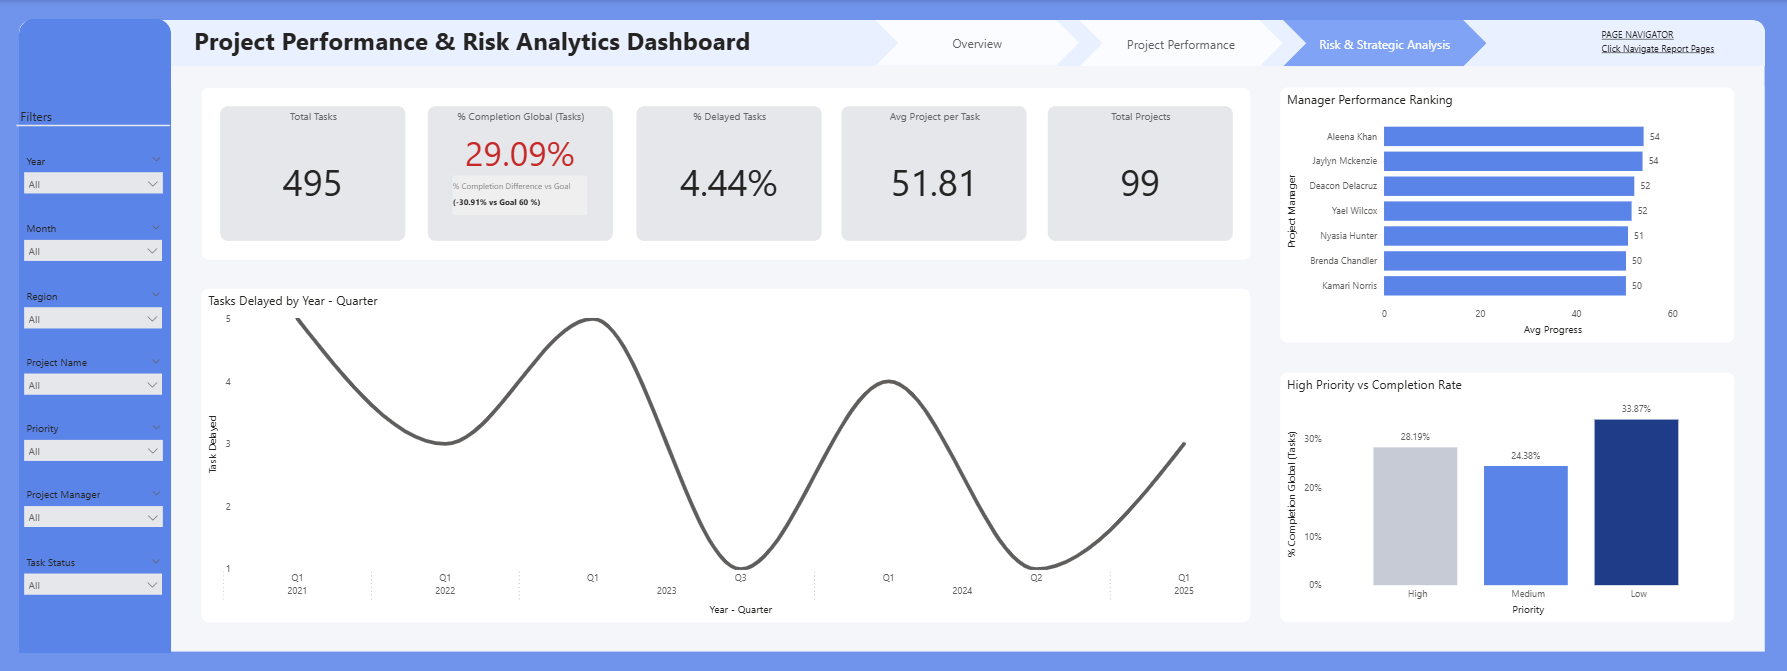

The page's visual inventory and layout, read from the dashboard file:
{"tool":"powerbi","page":{"name":"Risk & Strategic Analysis","canvas":[2350,885],"ordinal":2},"visuals":[{"type":"group","id":"g1","title":"Group 1","box":[27.1,26.7,2295,830],"z":0},{"type":"shape","box":[27.4,26.7,2294.4,830],"z":0,"group":"g1"},{"type":"textbox","box":[23.3,137,125,32.8],"z":0,"group":"g2"},{"type":"shape","box":[27.1,26.7,2295,60.9],"z":1000,"group":"g1"},{"type":"actionButton","title":"Overview","box":[1152,27,268,60],"z":1000},{"type":"shape","box":[23.3,158.7,201.7,14.4],"z":1000,"group":"g2"},{"type":"actionButton","title":"Overview","box":[1420,27,268,61],"z":2000},{"type":"textbox","box":[2101.8,31,195,51],"z":2000,"group":"g1"},{"type":"actionButton","title":"Overview","box":[1688,27,268,61],"z":3000},{"type":"textbox","box":[252,27,824,60],"z":4000},{"type":"shape","box":[26,24,200,834],"z":5000},{"type":"group","id":"g2","title":"Group 3","box":[23.3,137,201.7,36.1],"z":6000},{"type":"group","id":"g3","title":"Group 4","box":[23.3,197.1,201.7,615],"z":7000},{"type":"columnChart","title":"High Priority vs Completion Rate","fields":{"Category":["dim_priority.priority"],"Y":["Measures_DAX.% Completion Global"]},"box":[1683.3,490,596.7,328.3],"z":8000},{"type":"lineChart","title":"Tasks Delayed by Year - Quarter","fields":{"Y":["Measures_DAX.Count task Delayed"],"Category":["dim_date.year","dim_date.Quarter_n"]},"box":[266.7,380,1378.3,438.3],"z":9000},{"type":"barChart","title":"Manager Performance Ranking","fields":{"Y":["Measures_DAX.Avg Progress"],"Category":["dim_project.project_manager"]},"box":[1683.3,115,596.7,335],"z":10000},{"type":"shape","box":[266.5,115.2,1378.9,226.7],"z":10000,"group":"g4"},{"type":"group","id":"g4","title":"Group 2","box":[266.5,115.2,1378.9,226.7],"z":11000},{"type":"slicer","fields":{"Values":["dim_date.year"]},"box":[23.3,197.1,201.7,90],"z":12000,"group":"g3"},{"type":"cardVisual","title":"% Completion Global (Tasks)","fields":{"Data":["Measures_DAX.% Completion Global"]},"box":[563.2,139.6,243.3,176.7],"z":13000,"group":"g4"},{"type":"slicer","fields":{"Values":["dim_date.month_name"]},"box":[23.9,286.5,201.1,88.3],"z":13000,"group":"g3"},{"type":"cardVisual","title":"Total Tasks","fields":{"Data":["Measures_DAX.Total Tasks"]},"box":[291.5,139.6,243.3,176.7],"z":14000,"group":"g4"},{"type":"slicer","fields":{"Values":["dim_project.project_name"]},"box":[23.9,461.5,201.1,87.8],"z":14000,"group":"g3"},{"type":"cardVisual","title":"% Delayed Tasks","fields":{"Data":["Measures_DAX.% Delayed Tasks"]},"box":[838.2,139.6,243.3,176.7],"z":15000,"group":"g4"},{"type":"slicer","fields":{"Values":["dim_priority.priority"]},"box":[23.3,548.8,201.7,87.2],"z":15000,"group":"g3"},{"type":"cardVisual","title":"Avg Project per Task","fields":{"Data":["Measures_DAX.Avg Progress"]},"box":[1108.2,139.6,243.3,176.7],"z":16000,"group":"g4"},{"type":"slicer","fields":{"Values":["dim_project.project_manager"]},"box":[23.3,636,201.7,88.9],"z":16000,"group":"g3"},{"type":"cardVisual","title":"Total Projects","fields":{"Data":["Measures_DAX.Total Projects"]},"box":[1378.2,139.6,243.3,176.7],"z":17000,"group":"g4"},{"type":"slicer","fields":{"Values":["dim_project.region"]},"box":[23.9,373.8,201.1,88.9],"z":17000,"group":"g3"},{"type":"slicer","fields":{"Values":["dim_status.task_status"]},"box":[23.9,724.9,201.1,87.2],"z":18000,"group":"g3"}]}

Visuals, with their boxes in screenshot pixels (x1, y1, x2, y2), scaled from the page's 2350x885 canvas onto the 1787x671 screenshot:
"Group 1" group: bbox=(21, 20, 1766, 650)
shape: bbox=(21, 20, 1766, 650)
textbox: bbox=(18, 104, 113, 129)
shape: bbox=(21, 20, 1766, 66)
"Overview" actionButton: bbox=(876, 20, 1080, 66)
shape: bbox=(18, 120, 171, 131)
"Overview" actionButton: bbox=(1080, 20, 1284, 67)
textbox: bbox=(1598, 24, 1747, 62)
"Overview" actionButton: bbox=(1284, 20, 1487, 67)
textbox: bbox=(192, 20, 818, 66)
shape: bbox=(20, 18, 172, 651)
"Group 3" group: bbox=(18, 104, 171, 131)
"Group 4" group: bbox=(18, 149, 171, 616)
"High Priority vs Completion Rate" columnChart: bbox=(1280, 372, 1734, 620)
"Tasks Delayed by Year - Quarter" lineChart: bbox=(203, 288, 1251, 620)
"Manager Performance Ranking" barChart: bbox=(1280, 87, 1734, 341)
shape: bbox=(203, 87, 1251, 259)
"Group 2" group: bbox=(203, 87, 1251, 259)
slicer - dim_date.year: bbox=(18, 149, 171, 218)
"% Completion Global (Tasks)" cardVisual: bbox=(428, 106, 613, 240)
slicer - dim_date.month_name: bbox=(18, 217, 171, 284)
"Total Tasks" cardVisual: bbox=(222, 106, 407, 240)
slicer - dim_project.project_name: bbox=(18, 350, 171, 416)
"% Delayed Tasks" cardVisual: bbox=(637, 106, 822, 240)
slicer - dim_priority.priority: bbox=(18, 416, 171, 482)
"Avg Project per Task" cardVisual: bbox=(843, 106, 1028, 240)
slicer - dim_project.project_manager: bbox=(18, 482, 171, 550)
"Total Projects" cardVisual: bbox=(1048, 106, 1233, 240)
slicer - dim_project.region: bbox=(18, 283, 171, 351)
slicer - dim_status.task_status: bbox=(18, 550, 171, 616)
